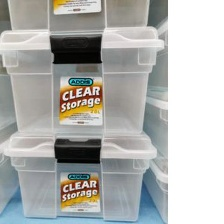plastic_box: (0, 23, 168, 138), (0, 123, 161, 224), (2, 0, 155, 37)
